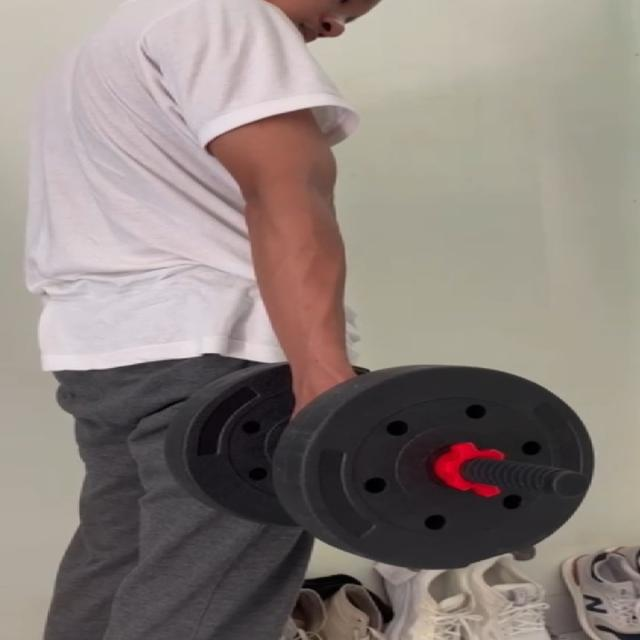dumbbell: (165, 361, 590, 562)
